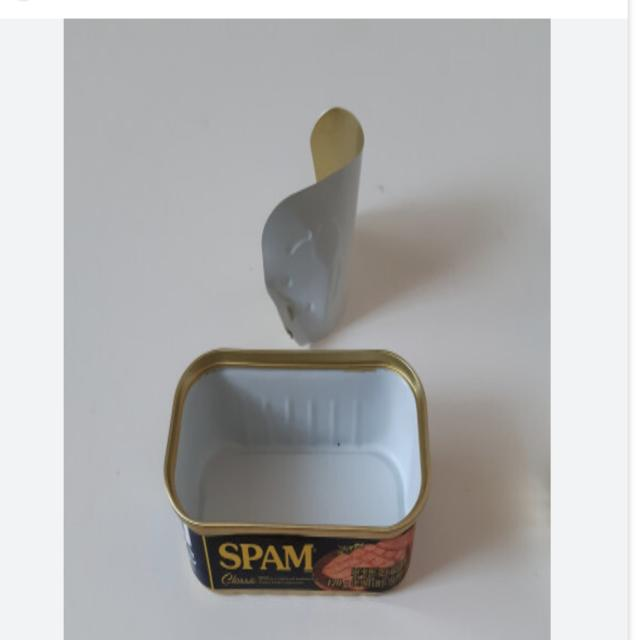recyclable: (156, 336, 442, 605), (258, 79, 378, 345)
